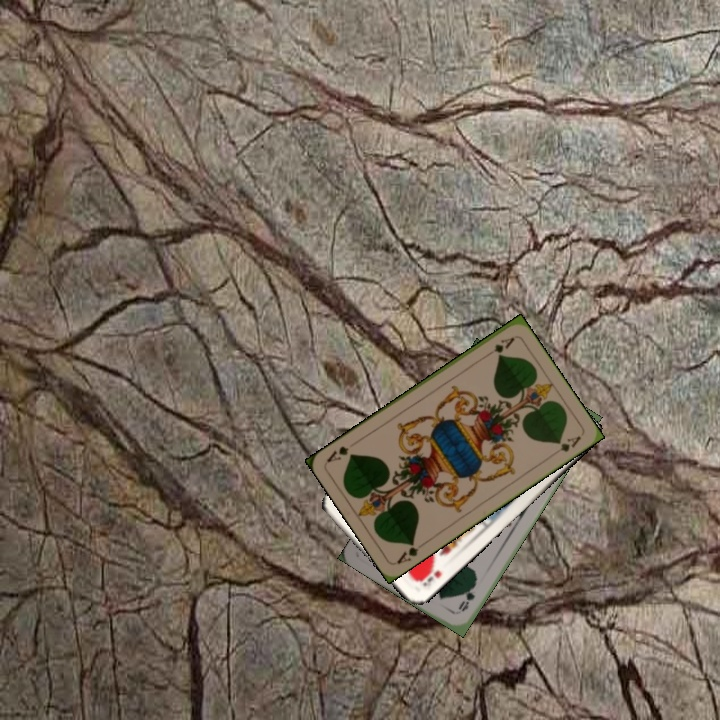GA: (392, 537, 428, 567), (481, 333, 517, 360)
GO: (454, 578, 479, 615)
HK: (415, 561, 444, 589)
